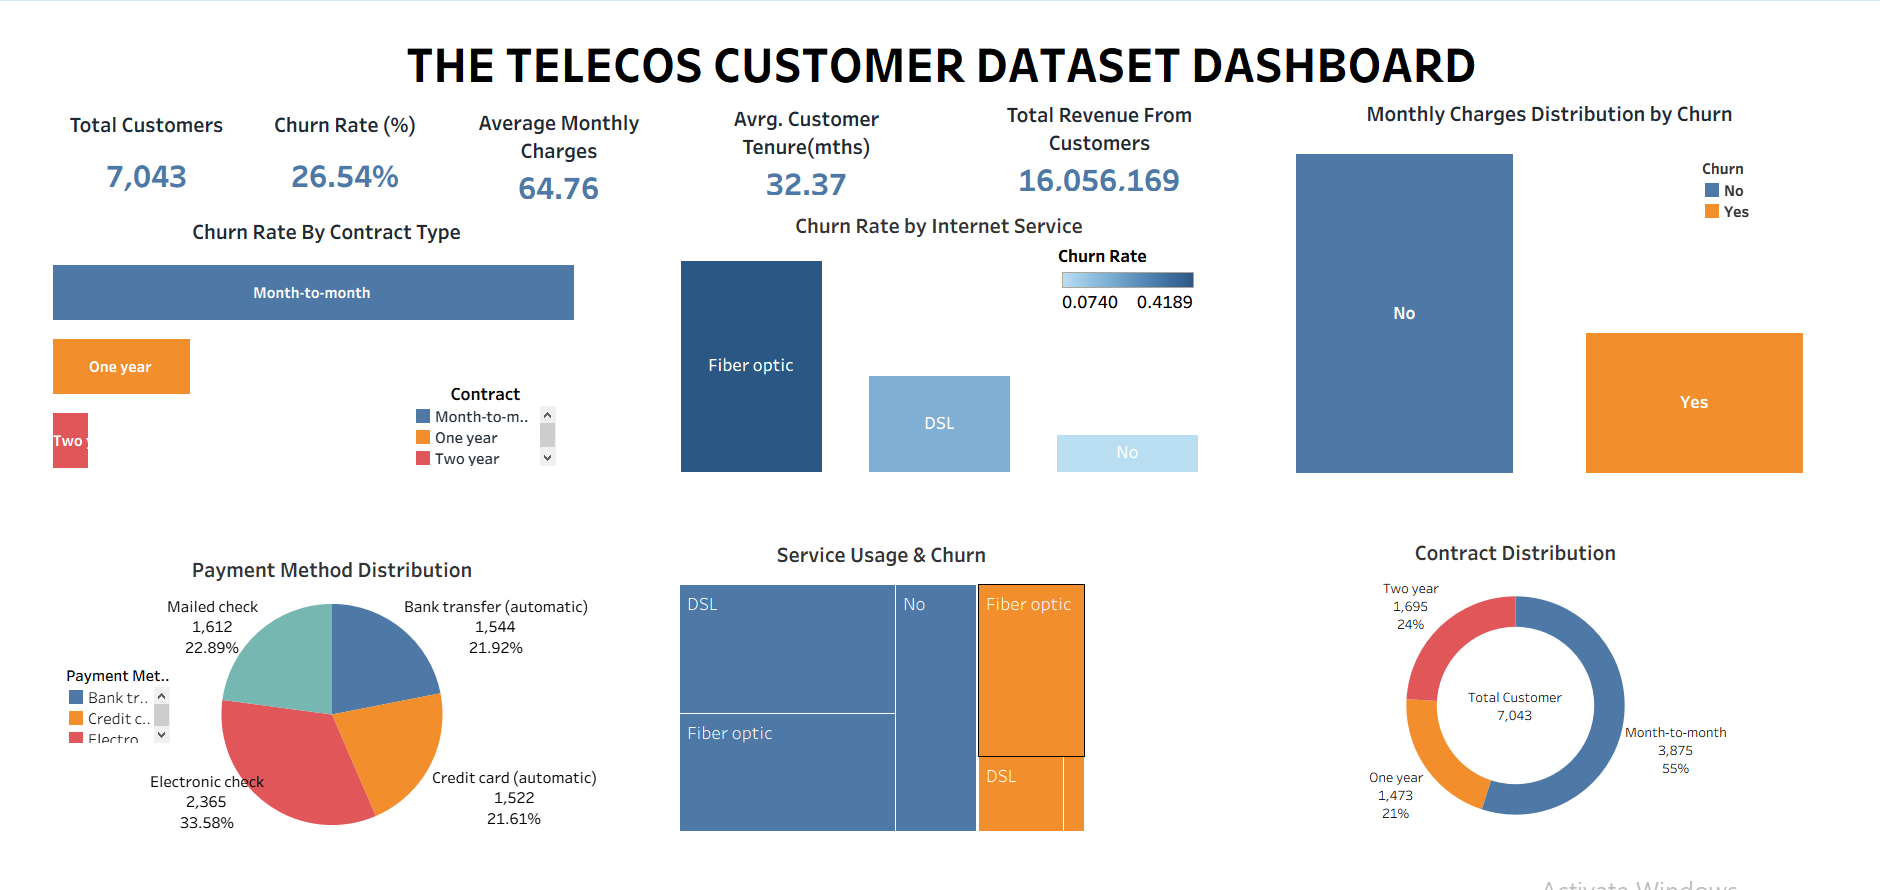

This screenshot's page, from the dashboard's own definition file:
{"tool":"tableau","page":{"name":"Telecos Customer Dasboard","canvas":[1800,900],"ordinal":0},"visuals":[{"type":"worksheet","title":"Monthly Charges Distribution by Churn","mark":"Automatic","rows":["MonthlyCharges"],"cols":["Churn"],"box":[1213,48,579,378]},{"type":"worksheet","title":"Total Revenue","mark":"Automatic","box":[925,49,255,95]},{"type":"worksheet","title":"Average Customer Tenure","mark":"Automatic","box":[643,53,233,95]},{"type":"worksheet","title":"Aversge Monthly Charges","mark":"Automatic","box":[417,57,190,95]},{"type":"worksheet","title":"Total Customer","mark":"Automatic","box":[5,59,189,95]},{"type":"worksheet","title":"Churn Rate","mark":"Automatic","box":[199,59,198,95]},{"type":"legend","title":"Monthly Charges Distribution by Churn","param":"[federated.0n9m8dd1n2a4cy1c5im7k0nsjg4c].[none:Churn:nk]","box":[1655,111,135,64]},{"type":"worksheet","title":"Churn Rate by Internet Service","mark":"Bar","rows":["Calculation_1702642159380709376"],"cols":["InternetService"],"box":[610,160,564,265]},{"type":"worksheet","title":"Churn Rate By Contract Type","mark":"Bar","rows":["Contract"],"cols":["Calculation_1702642159380709376"],"box":[6,166,547,264]},{"type":"legend","title":"Churn Rate by Internet Service","param":"[federated.0n9m8dd1n2a4cy1c5im7k0nsjg4c].[usr:Calculation_1702642159380709376:qk","box":[1011,197,140,95]},{"type":"legend","title":"Churn Rate By Contract Type","param":"[federated.0n9m8dd1n2a4cy1c5im7k0nsjg4c].[none:Contract:nk]","box":[366,334,145,85]},{"type":"worksheet","title":"Contract Distribution","mark":"Pie","rows":["Calculation_1702642159504113667","Calculation_1702642159504113667"],"box":[1174,487,589,300]},{"type":"worksheet","title":"Churn By service usage","mark":"Automatic","box":[627,489,528,301]},{"type":"worksheet","title":"Monthly/Total Charges Distribution","mark":"Pie","box":[7,504,556,284]},{"type":"legend","title":"Monthly/Total Charges Distribution","param":"[federated.0n9m8dd1n2a4cy1c5im7k0nsjg4c].[none:PaymentMethod:nk]","box":[19,618,106,78]}]}

Visuals, with their boxes on the page's 1800x900 design canvas (x1, y1, x2, y2). These are canvas units, not pixel positions in the 1880x890 screenshot, which may show the page scaled, cropped or inside an application window:
"Monthly Charges Distribution by Churn" worksheet: bbox=(1213, 48, 1792, 426)
"Total Revenue" worksheet: bbox=(925, 49, 1180, 144)
"Average Customer Tenure" worksheet: bbox=(643, 53, 876, 148)
"Aversge Monthly Charges" worksheet: bbox=(417, 57, 607, 152)
"Total Customer" worksheet: bbox=(5, 59, 194, 154)
"Churn Rate" worksheet: bbox=(199, 59, 397, 154)
"Monthly Charges Distribution by Churn" legend: bbox=(1655, 111, 1790, 175)
"Churn Rate by Internet Service" worksheet (Bar marks): bbox=(610, 160, 1174, 425)
"Churn Rate By Contract Type" worksheet (Bar marks): bbox=(6, 166, 553, 430)
"Churn Rate by Internet Service" legend: bbox=(1011, 197, 1151, 292)
"Churn Rate By Contract Type" legend: bbox=(366, 334, 511, 419)
"Contract Distribution" worksheet (Pie marks): bbox=(1174, 487, 1763, 787)
"Churn By service usage" worksheet: bbox=(627, 489, 1155, 790)
"Monthly/Total Charges Distribution" worksheet (Pie marks): bbox=(7, 504, 563, 788)
"Monthly/Total Charges Distribution" legend: bbox=(19, 618, 125, 696)
